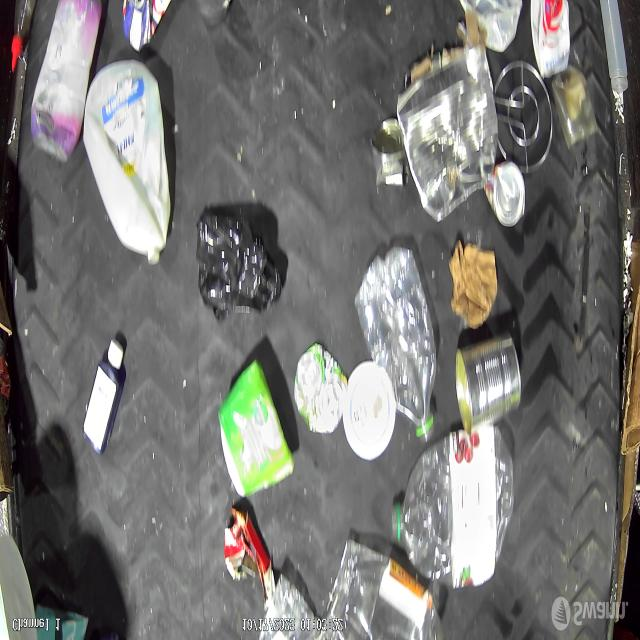can: (456, 330, 524, 434), (292, 342, 346, 435), (375, 118, 407, 192)
milk_jug: (82, 57, 174, 267)
non_white_jug: (32, 4, 102, 165), (197, 212, 280, 321)
plastic_bottle: (390, 426, 515, 589), (354, 248, 440, 443)
